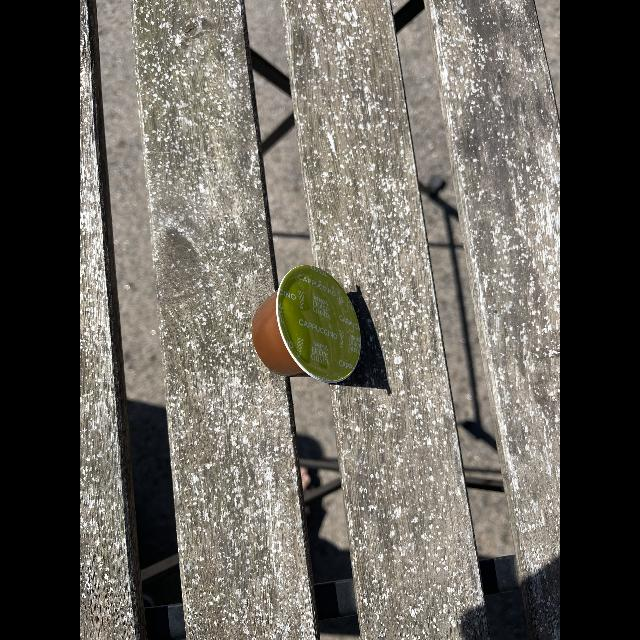intact_capsule: (248, 252, 370, 396)
